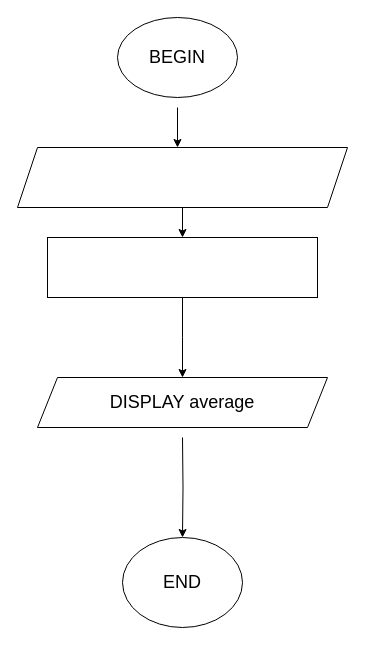
Some shapes in this 365 by 645 pixel diagram are drawn without their labels. The box of each missing label's shape, as (x1, y1, x2, y2) in pixels:
average = ( Math + Physis + Chemistry ) /3: (46, 236, 318, 298)
INPUT Math, Physis, Chemistry: (16, 146, 348, 208)
